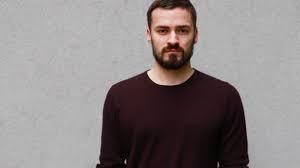white_male: (139, 11, 202, 72)
